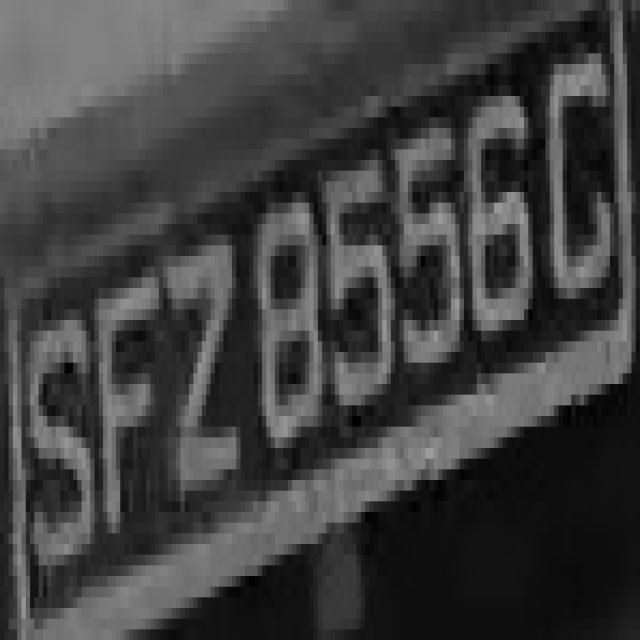5: (378, 86, 464, 406), (310, 139, 400, 416)
6: (451, 85, 537, 352)
8: (245, 171, 331, 448)
C: (537, 11, 614, 320)
F: (94, 235, 172, 565)
S: (17, 288, 99, 587)
Z: (155, 214, 236, 502)
